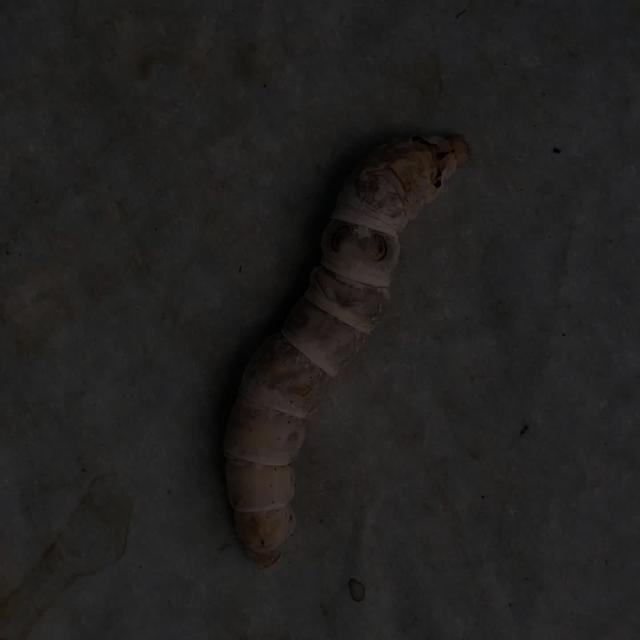Grasserie: (211, 116, 476, 576)
